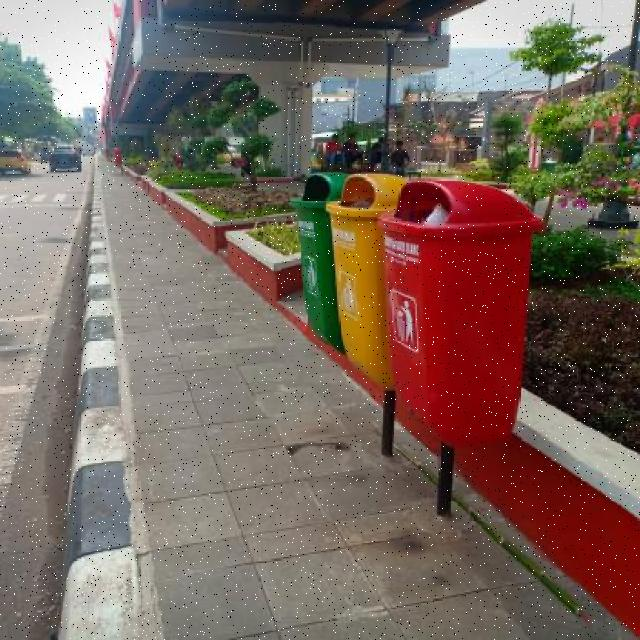garbage container: (372, 178, 557, 458), (328, 168, 390, 386), (288, 166, 346, 357)
